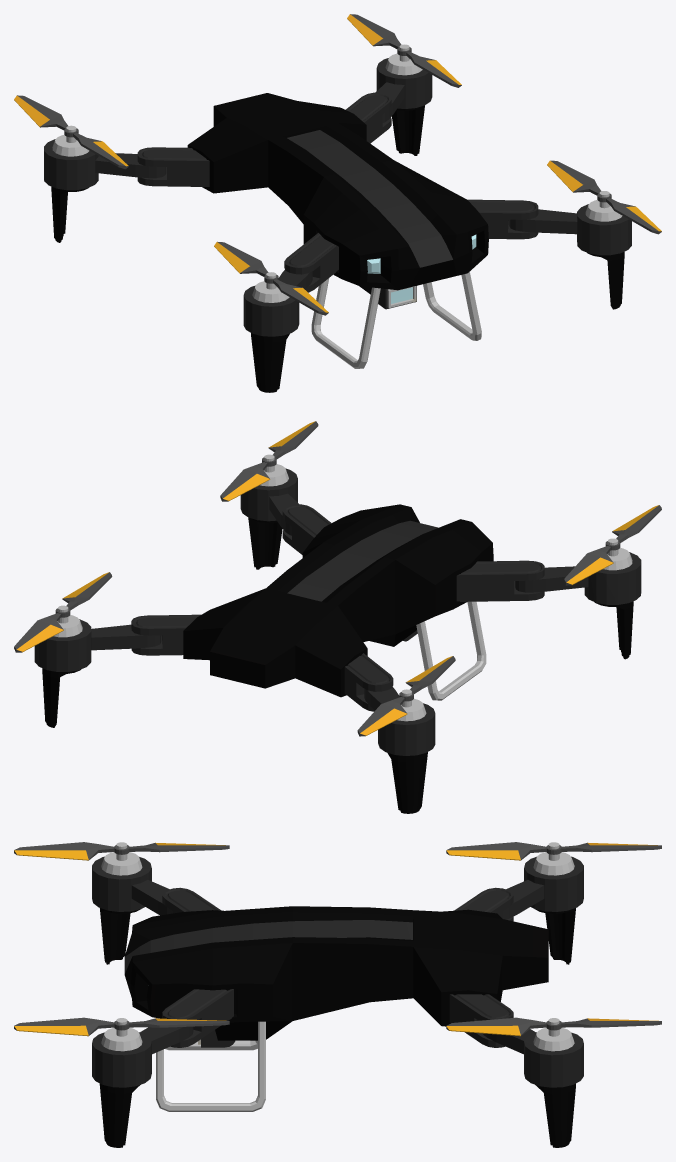
File: Drone-transformed.glb
3 views of the same model, one above another, from view 1: azimuth 30°, elevation 25°; view 2: azimuth 150°, elevation 25°; view 3: azimuth 270°, elevation 25° (orthographic). The views are drawn at different scales.
Parts seen in each view (by area): view 1: Body; view 2: Body; view 3: Body.
Boxes of the visible parts, x1,y1,x2,y2 form: Body: (14,14,661,392); Body: (14,421,661,813); Body: (14,842,661,1147).
Size of the model in its own units: 0.5736 by 0.2076 by 0.7813.
Materials: 1 (1 with a texture image).
